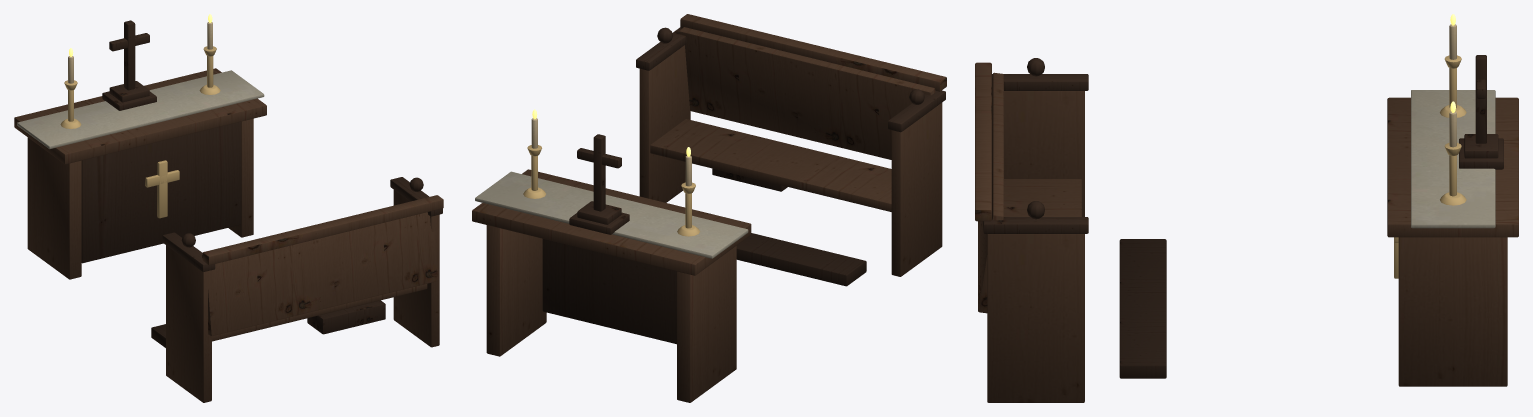
Rendered from chapel_pew_altar.glb.
3 views of the same model, side by side, from view 1: azimuth 30°, elevation 25°; view 2: azimuth 150°, elevation 25°; view 3: azimuth 270°, elevation 25° (orthographic). The views are drawn at different scales.
Visible parts, largest first — view 1: PewBack, AltarFrontPanel, AltarCloth, AltarLegL, PewEnd0, AltarTop, PewBackRail, PewEnd1, AltarLegR, PewBookBox, PewSeat, CrossV (+5 smaller); view 2: PewBack, AltarFrontPanel, PewSeat, PewEnd0, AltarLegL, AltarCloth, AltarTop, AltarLegR, PewEnd1, PewBackRail, PewKneeler, PewEndCap0 (+6 smaller); view 3: PewEnd1, AltarLegR, AltarCloth, AltarTop, PewEnd0, PewKneeler, PewSeat, PewBackRail, PewBack, PewEndCap1, PewEndCap0, CrossV (+2 smaller).
Boxes of the visible parts, bbox=[...] form: PewBack: bbox=[202, 212, 438, 336]; AltarFrontPanel: bbox=[81, 121, 240, 263]; AltarCloth: bbox=[17, 70, 264, 148]; AltarLegL: bbox=[27, 137, 81, 279]; PewEnd0: bbox=[166, 245, 211, 402]; AltarTop: bbox=[14, 68, 266, 164]; PewBackRail: bbox=[202, 195, 443, 265]; PewEnd1: bbox=[393, 190, 439, 347]; AltarLegR: bbox=[228, 118, 253, 237]; PewBookBox: bbox=[307, 300, 385, 334]; PewSeat: bbox=[212, 284, 427, 341]; CrossV: bbox=[124, 20, 135, 90]; PewBack: bbox=[679, 27, 935, 159]; AltarFrontPanel: bbox=[542, 239, 676, 344]; PewSeat: bbox=[650, 119, 891, 211]; PewEnd0: bbox=[891, 102, 942, 276]; AltarLegL: bbox=[677, 246, 736, 402]; AltarCloth: bbox=[475, 171, 748, 258]; AltarTop: bbox=[472, 169, 751, 275]; AltarLegR: bbox=[486, 225, 546, 356]; PewEnd1: bbox=[639, 45, 690, 202]; PewBackRail: bbox=[680, 14, 946, 91]; PewKneeler: bbox=[736, 233, 866, 286]; PewEndCap0: bbox=[888, 90, 945, 132]; PewEnd1: bbox=[987, 234, 1084, 402]; AltarLegR: bbox=[1398, 237, 1507, 386]; AltarCloth: bbox=[1411, 90, 1495, 228]; AltarTop: bbox=[1387, 97, 1518, 237]; PewEnd0: bbox=[1004, 91, 1084, 216]; PewKneeler: bbox=[1119, 239, 1166, 378]; PewSeat: bbox=[1004, 179, 1081, 216]; PewBackRail: bbox=[975, 62, 991, 221]; PewBack: bbox=[978, 72, 1003, 313]; PewEndCap1: bbox=[983, 217, 1088, 233]; PewEndCap0: bbox=[992, 74, 1088, 90]; CrossV: bbox=[1475, 55, 1486, 143].
Size of the model in its own units: 1.9 by 1.6 by 2.89.
Materials: 6 (4 with a texture image).
